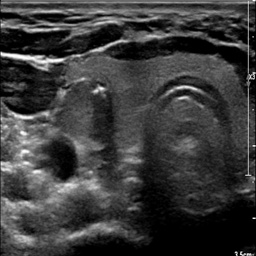mass: (59, 81, 110, 142)
